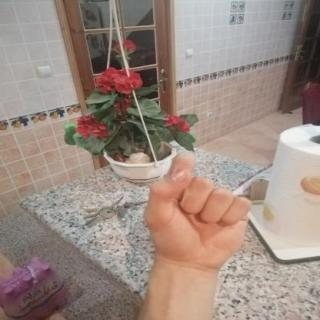FAA: (132, 147, 263, 282)
